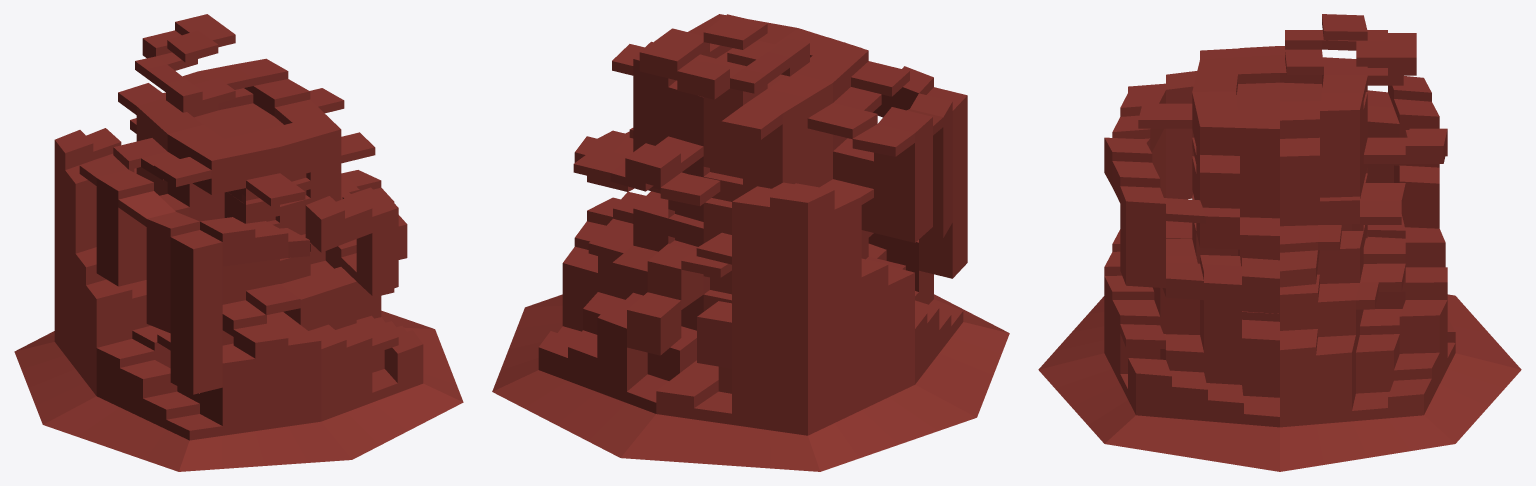
Rendered from cave2Structure.fbx.
3 renders of one model, left to right at view 1: azimuth 30°, elevation 25°; view 2: azimuth 150°, elevation 25°; view 3: azimuth 270°, elevation 25°, orthographic. The views are drawn at different scales.
Parts seen in each view (by area): view 1: cave2Structure; view 2: cave2Structure; view 3: cave2Structure.
Part boxes in pixels (x1,y1,x2,y2): cave2Structure: (14,14,463,471); cave2Structure: (492,14,1009,471); cave2Structure: (1038,14,1521,471).
Bounding box in the file's own units: 8374 × 6472 × 8374.
